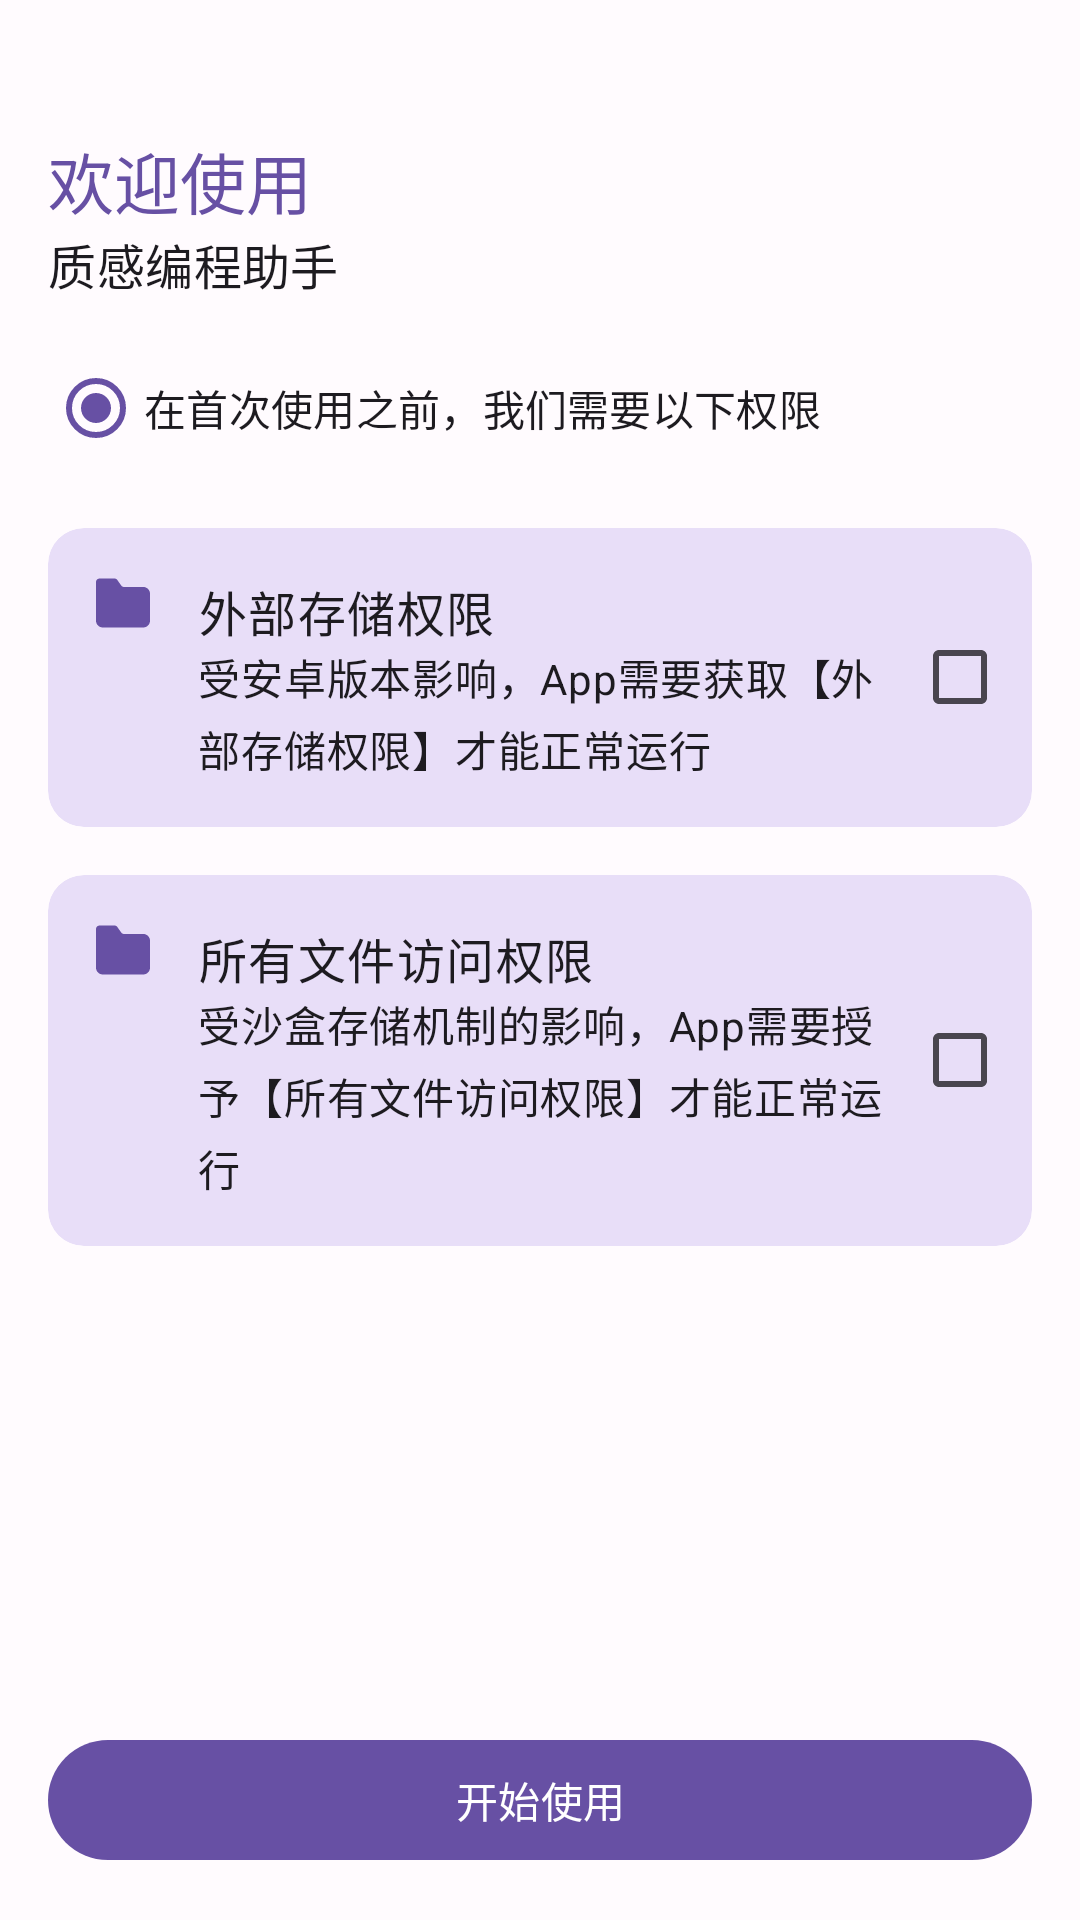

Screen size 1080x1920. Icon name, then its box in pixels as (x1, y1, x2, y2):
permission file: (96, 578, 150, 628), (96, 925, 150, 975)
